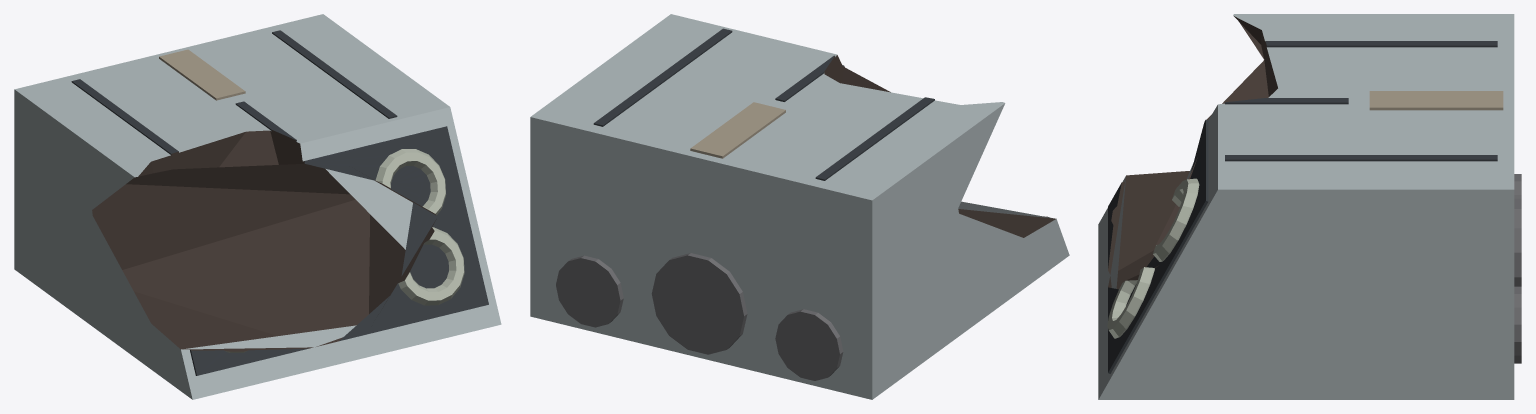
The model's file is vge_d_giantelectricthruster.obj.
The picture shows the model from 3 angles, left to right: view 1: azimuth 30°, elevation 25°; view 2: azimuth 150°, elevation 25°; view 3: azimuth 270°, elevation 25°; orthographic projection. The views are drawn at different scales.
Visible parts, largest first — view 1: vge_d_giantelectricthruster; view 2: vge_d_giantelectricthruster; view 3: vge_d_giantelectricthruster.
Boxes of the visible parts, bbox=[...] form: vge_d_giantelectricthruster: bbox=[14, 14, 501, 399]; vge_d_giantelectricthruster: bbox=[530, 14, 1069, 399]; vge_d_giantelectricthruster: bbox=[1098, 14, 1521, 399].
Size of the model in its own units: 2.96 by 1.67 by 3.01.
